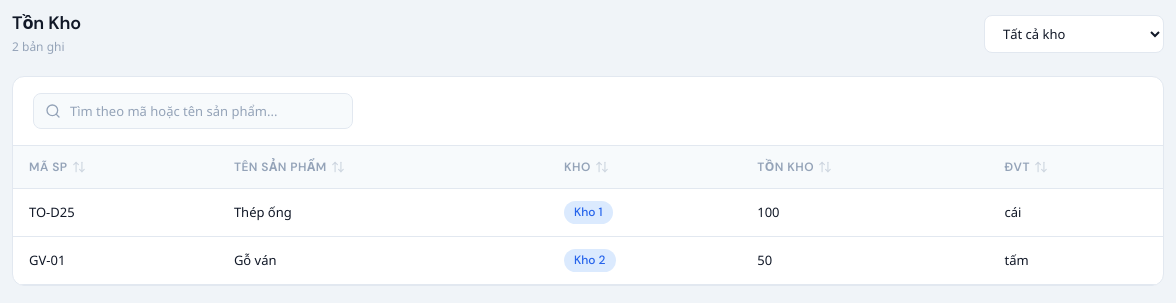
Test case: StockLedgerView › filters by warehouse correctly
Expected: the text "TO-D25" is shown, [13,188,218,237]
Select "Kho 1" in the dropdown named "lọc theo kho" at (1074, 34), box [984,15,1164,53]
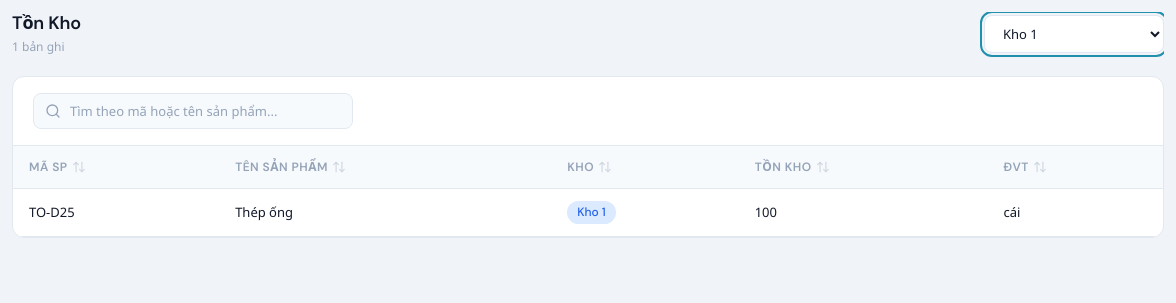
Expected: the cell "Kho 1" is shown, [551,188,739,237]
Expected: the cell "Kho 2" is gone
